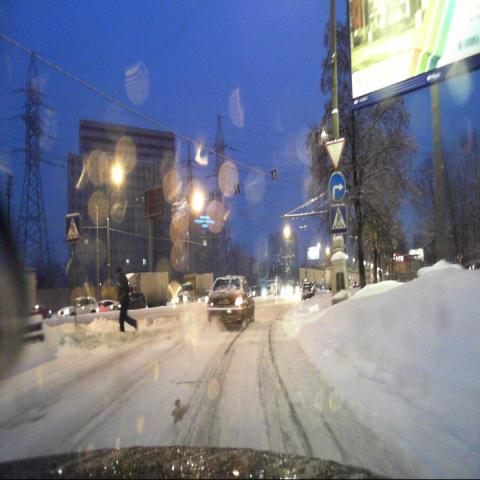4_1_2: (328, 169, 346, 202)
